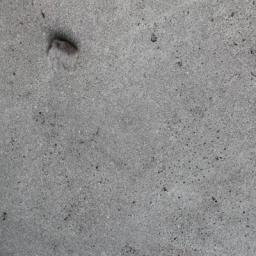FOD: (44, 36, 86, 83)
